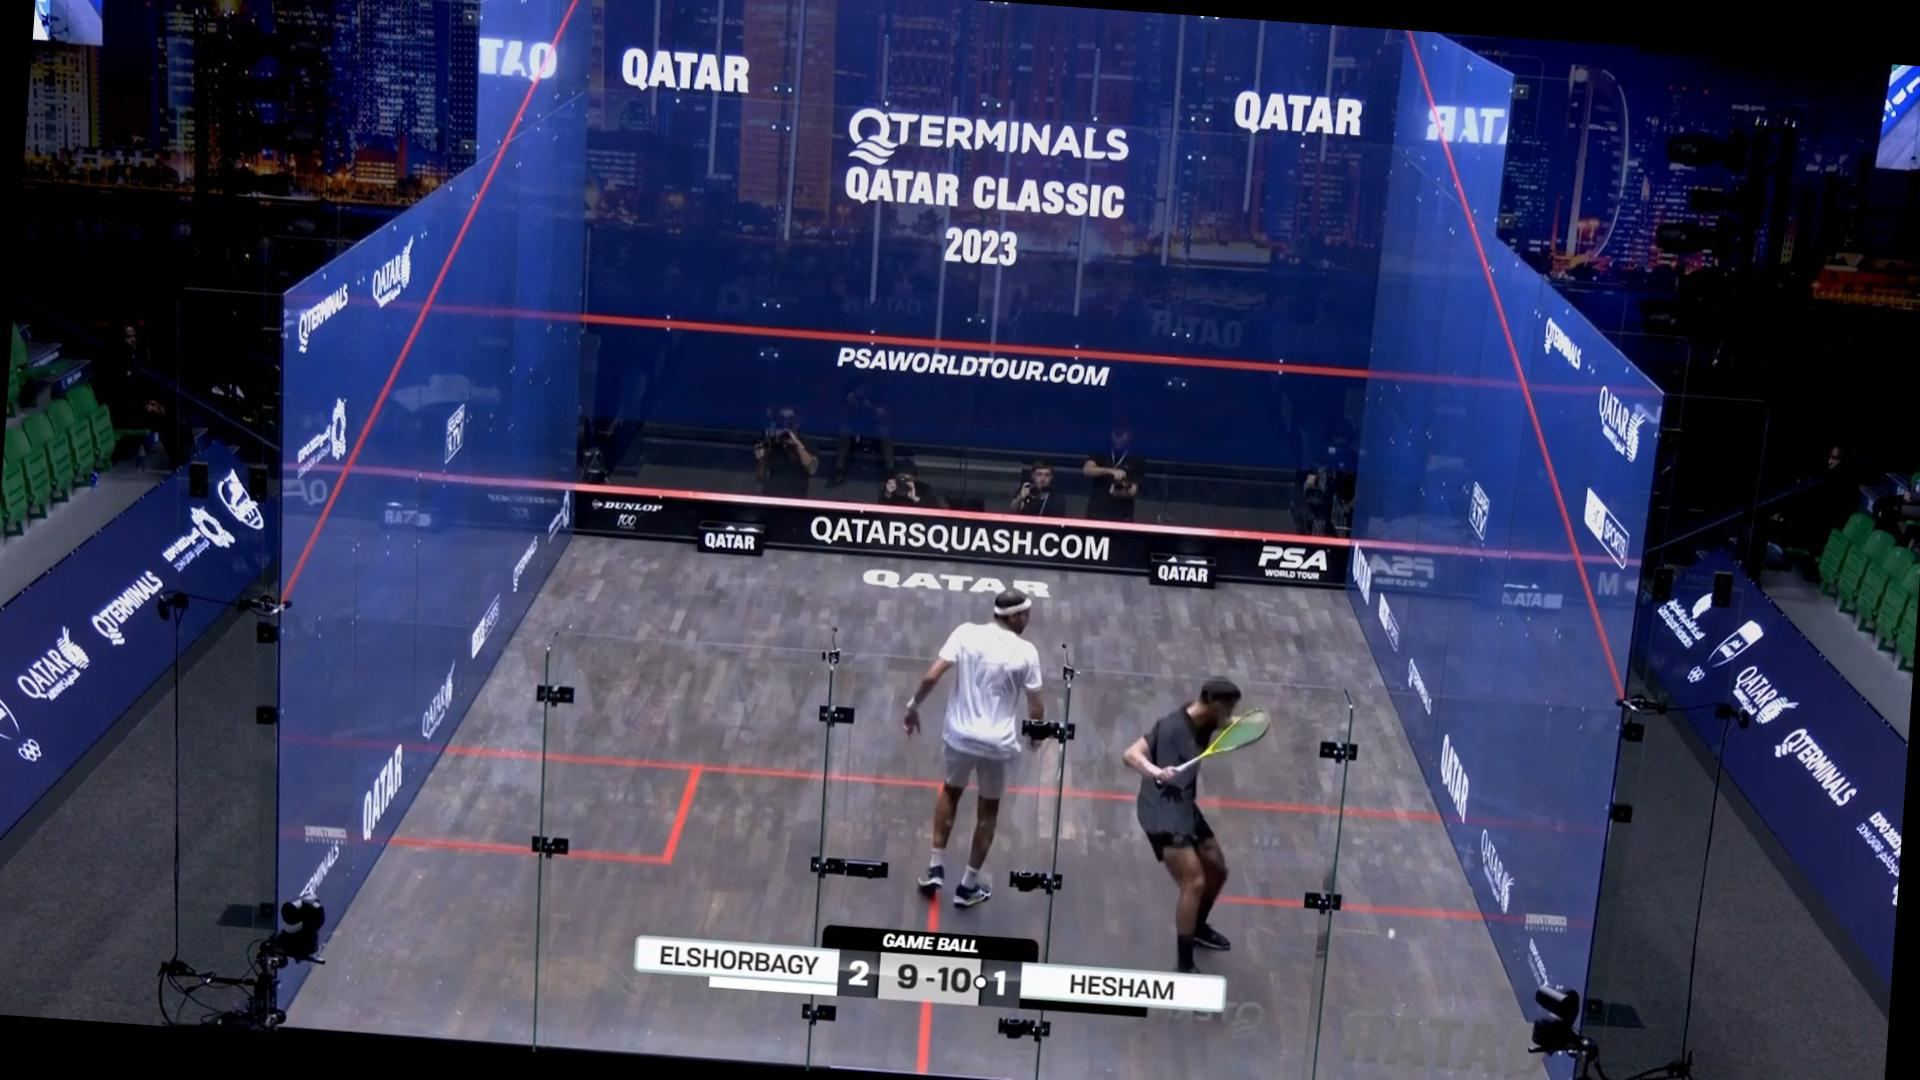Squash-Ball: (1382, 918, 1400, 951)
